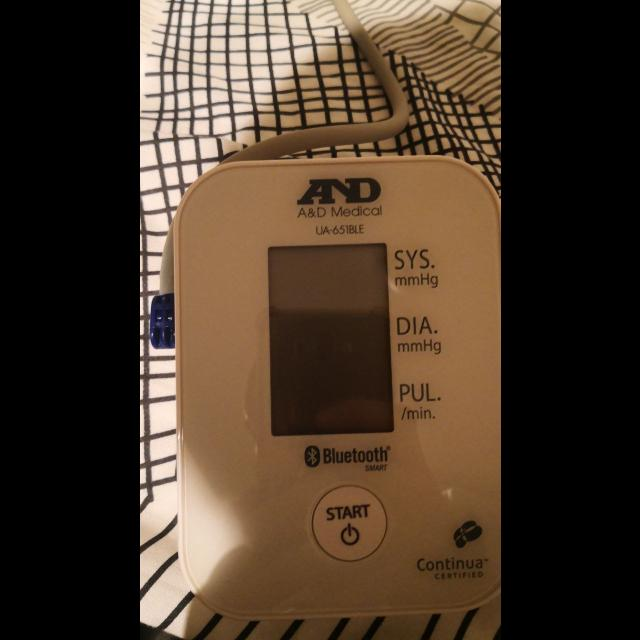Blood-Pressure-Monitor: (174, 156, 500, 620)
